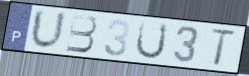3: (172, 24, 202, 65), (103, 18, 131, 57)
B: (64, 13, 99, 54)
T: (208, 28, 237, 68)
U: (28, 7, 68, 52), (133, 19, 170, 61)
